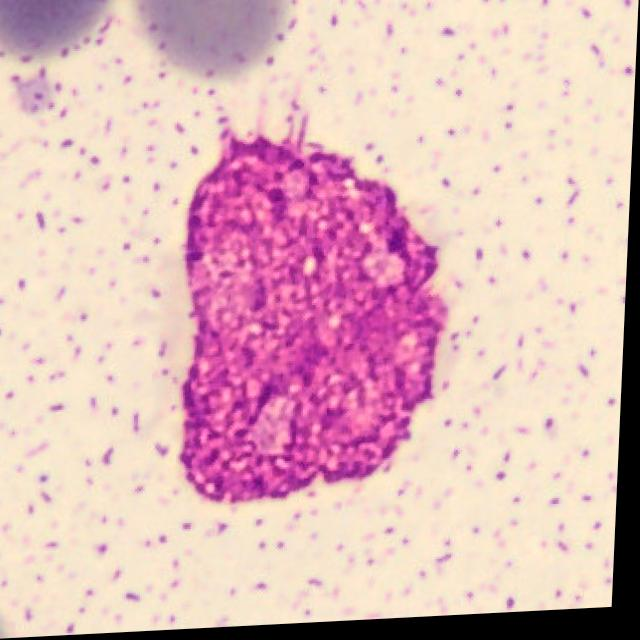Restos celulares: (184, 133, 453, 508)
